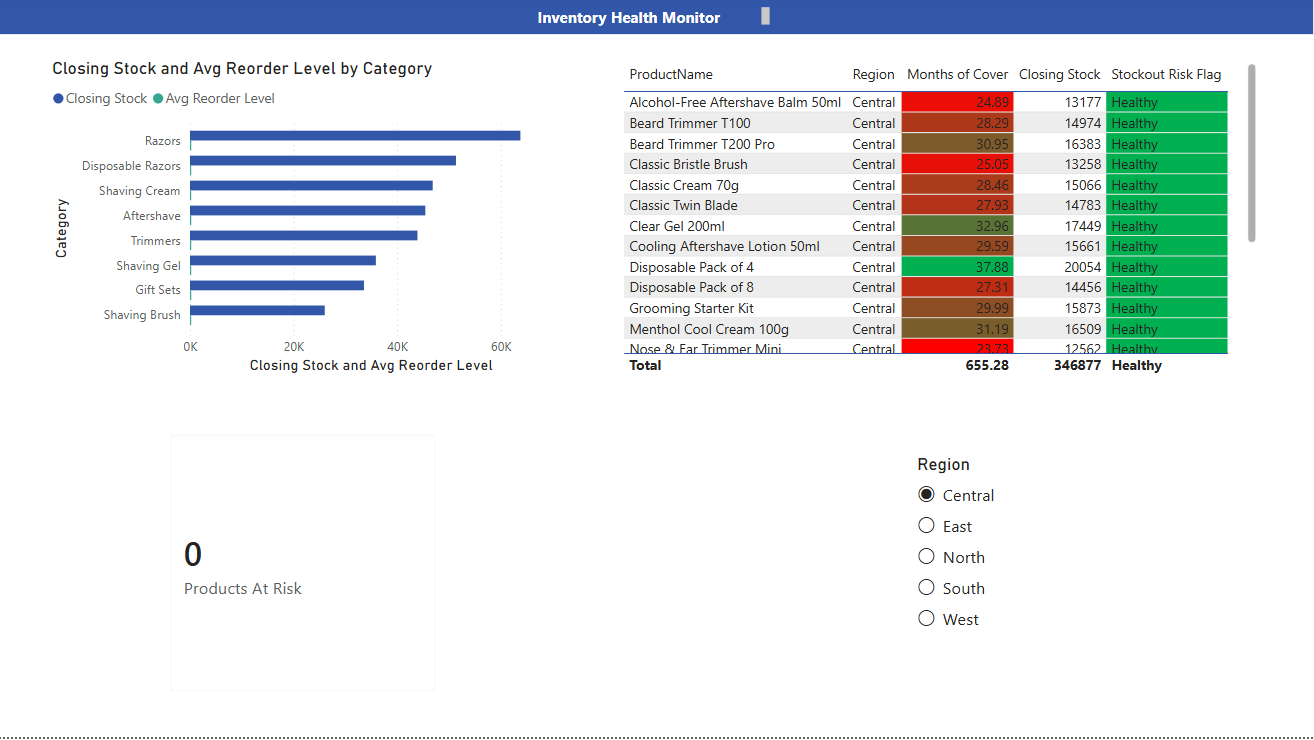

What the dashboard file says about the page in this screenshot:
{"tool":"powerbi","page":{"name":"Inventory Health","canvas":[1280,720],"ordinal":3},"visuals":[{"type":"clusteredBarChart","fields":{"Category":["Product_Master.Category"],"Y":["_Measures.Closing Stock","_Measures.Avg Reorder Level"]},"box":[47.7,59.3,506.7,312.2],"z":0},{"type":"tableEx","fields":{"Values":["Product_Master.ProductName","Inventory_Snapshot.Region","_Measures.Months of Cover","_Measures.Closing Stock","_Measures.Stockout Risk Flag"]},"box":[603,59.3,626.4,312.2],"z":1},{"type":"actionButton","box":[0,0,100,40],"z":2},{"type":"cardVisual","fields":{"Data":["_Measures.Products At Risk"]},"box":[150.8,408.5,292.8,284],"z":3},{"type":"listSlicer","fields":{"Values":["Inventory_Snapshot.Region"]},"box":[889,444.5,169.2,192.6],"z":4},{"type":"shape","box":[0,0,1280,37],"z":5},{"type":"textbox","box":[479.5,4.9,276.2,28.2],"z":6}]}

Visuals, with their boxes in screenshot pixels (x1, y1, x2, y2), scaled from the page's 1280x720 canvas onto the 1314x740 screenshot:
clusteredBarChart - Product_Master.Category x _Measures.Closing Stock: 49/61/569/382
tableEx - Product_Master.ProductName x Inventory_Snapshot.Region: 619/61/1262/382
actionButton: 0/0/103/41
cardVisual - _Measures.Products At Risk: 155/420/455/712
listSlicer - Inventory_Snapshot.Region: 913/457/1086/655
shape: 0/0/1313/38
textbox: 492/5/776/34
